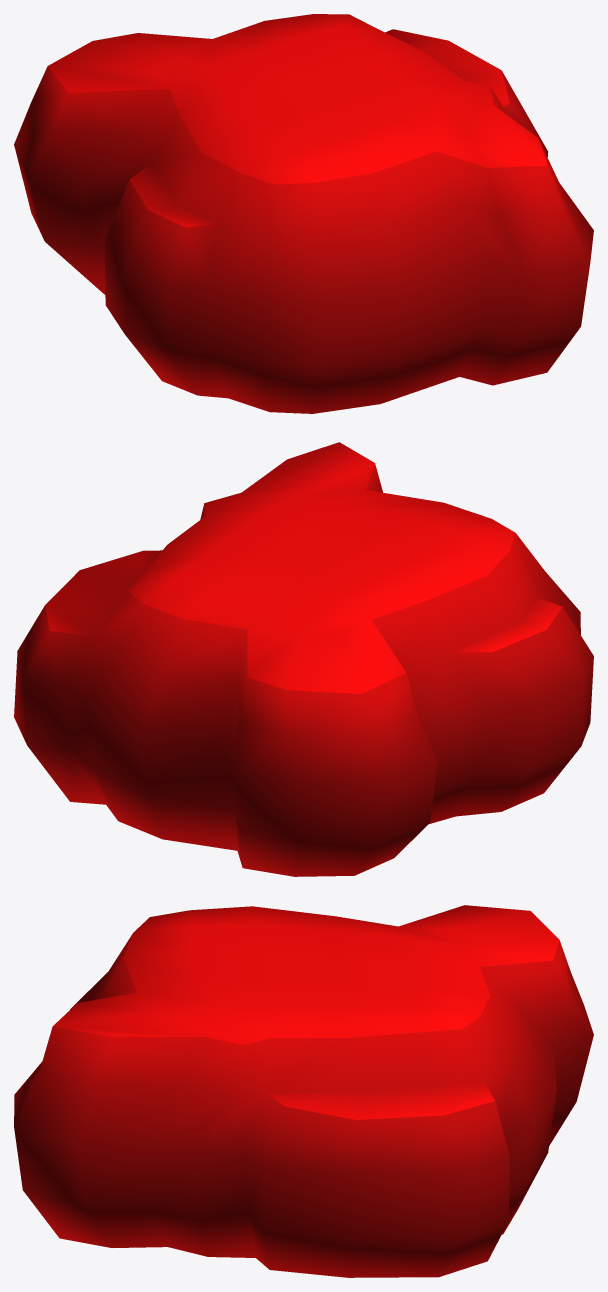
File: geology-landforms-icefloe_v6.fbx
The picture shows the model from 3 angles, top to bottom: view 1: azimuth 30°, elevation 25°; view 2: azimuth 150°, elevation 25°; view 3: azimuth 270°, elevation 25°; orthographic projection.
Parts seen in each view (by area): view 1: IceFloe_v6; view 2: IceFloe_v6; view 3: IceFloe_v6.
Part boxes in pixels (x1,y1,x2,y2): IceFloe_v6: (14, 14, 593, 413); IceFloe_v6: (14, 442, 593, 876); IceFloe_v6: (14, 905, 593, 1277).
Size of the model in its own units: 2.93 by 1.41 by 3.25.
